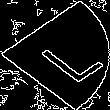L_NW: (16, 26, 94, 84)
